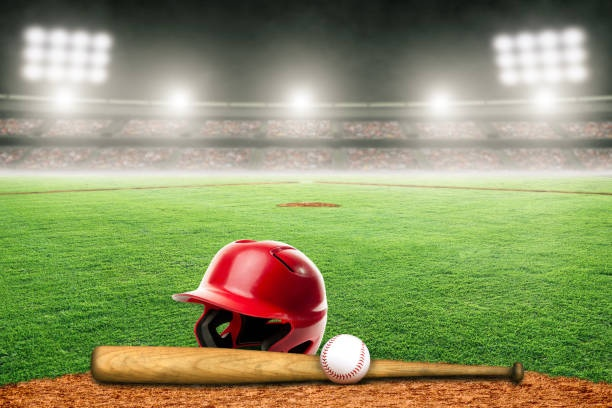bita: (94, 344, 533, 379)
